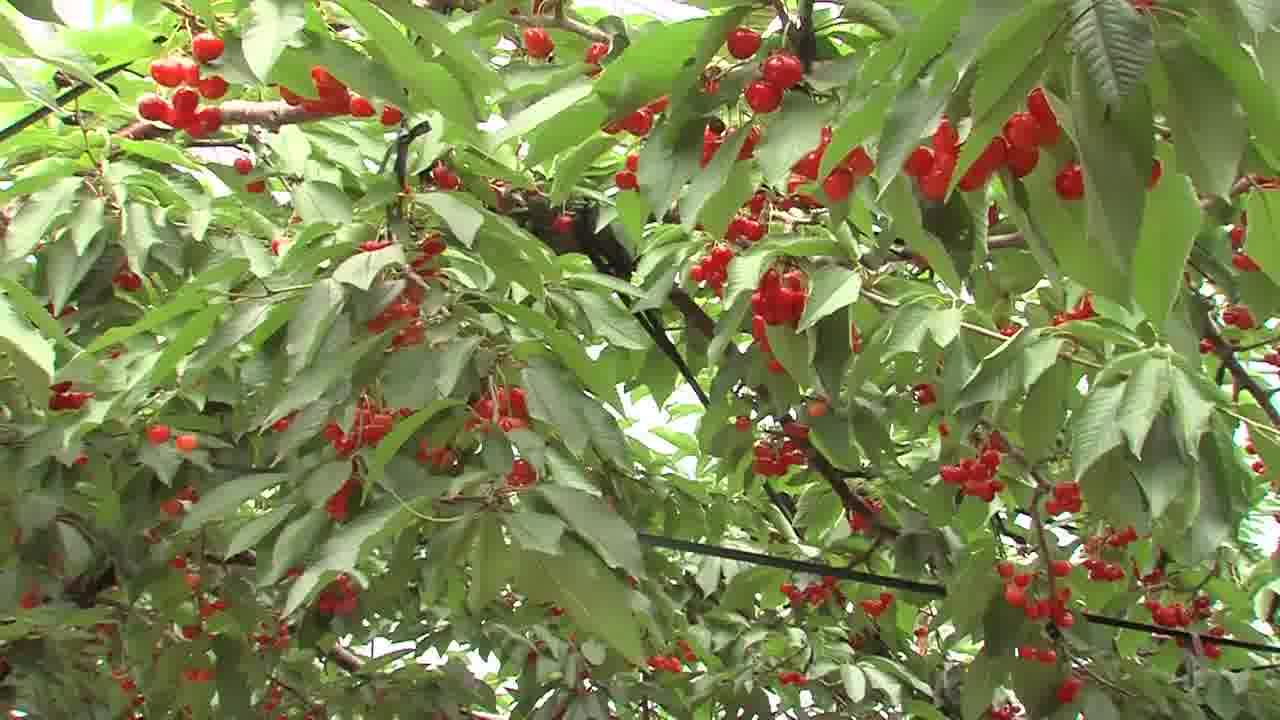Cherry: (795, 90, 1122, 206), (500, 8, 691, 155), (1079, 501, 1244, 664), (38, 356, 220, 476), (667, 213, 825, 341), (125, 12, 255, 155), (280, 34, 420, 146), (305, 386, 457, 472), (340, 242, 453, 349), (703, 7, 807, 115), (761, 562, 907, 637), (736, 405, 852, 495), (985, 536, 1082, 642), (943, 439, 1020, 512), (630, 630, 710, 683)
